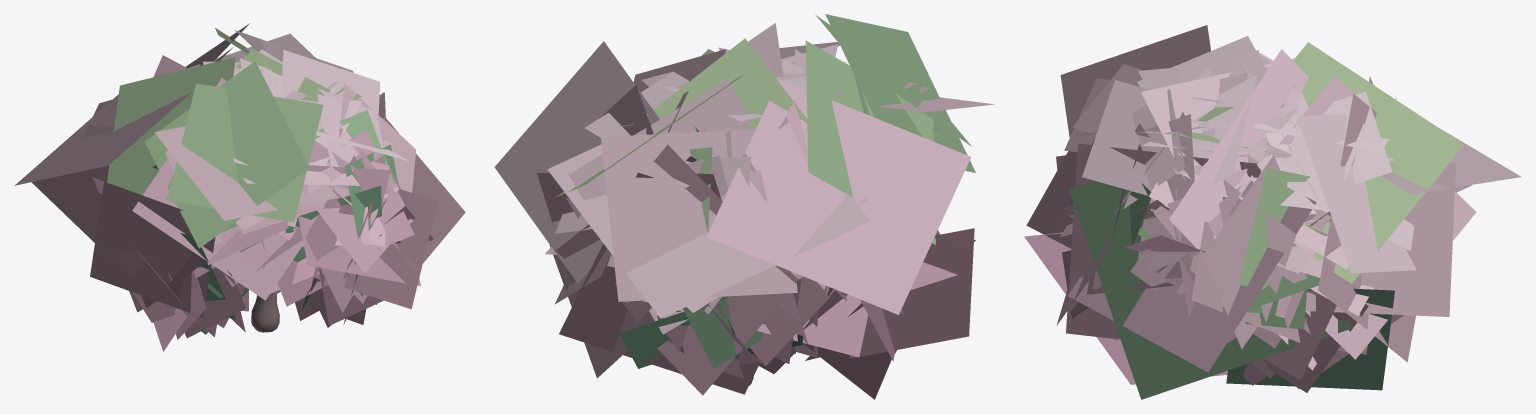
The model's file is wild_cherry_v3.glb.
3 views of the same model, side by side, from view 1: azimuth 30°, elevation 25°; view 2: azimuth 150°, elevation 25°; view 3: azimuth 270°, elevation 25° (orthographic). The views are drawn at different scales.
Visible parts, largest first — view 1: far, near; view 2: far, near; view 3: far, near.
Boxes of the visible parts, bbox=[...] form: far: bbox=[15, 23, 465, 304]; near: bbox=[90, 30, 437, 351]; far: bbox=[494, 14, 994, 395]; near: bbox=[555, 42, 975, 399]; far: bbox=[1024, 25, 1521, 399]; near: bbox=[1026, 36, 1452, 392].
Size of the model in its own units: 11.73 by 9.77 by 12.1.
